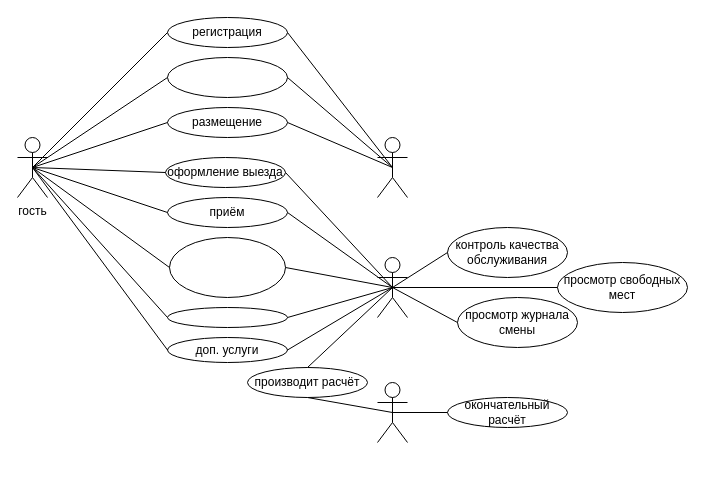
This 705x481 diagram has some shape labels left out. The centre of each missing label's shape, as x and y in pixels:
"администратор" belongs at point 392,287.
"бухгалтер" belongs at point 392,412.
"менеджер" belongs at point 392,167.
"производит оплату за проживание" belongs at point 227,267.
"расчёт за проживание" belongs at point 227,77.
"услуги" belongs at point 227,317.
